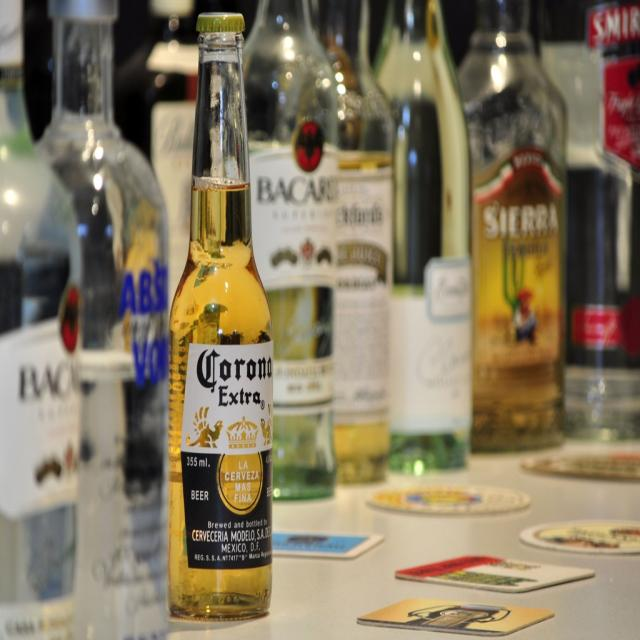corona: (180, 342, 274, 571)
